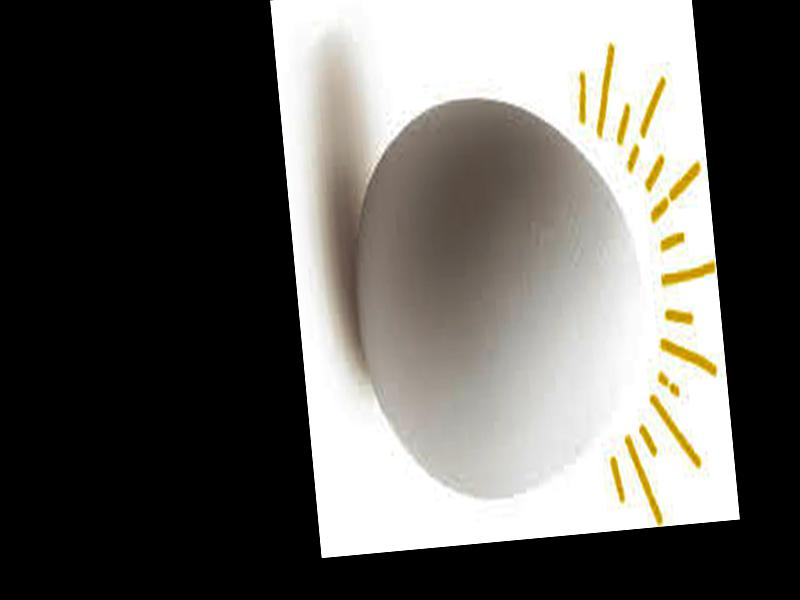Eggs: (339, 85, 657, 513)
